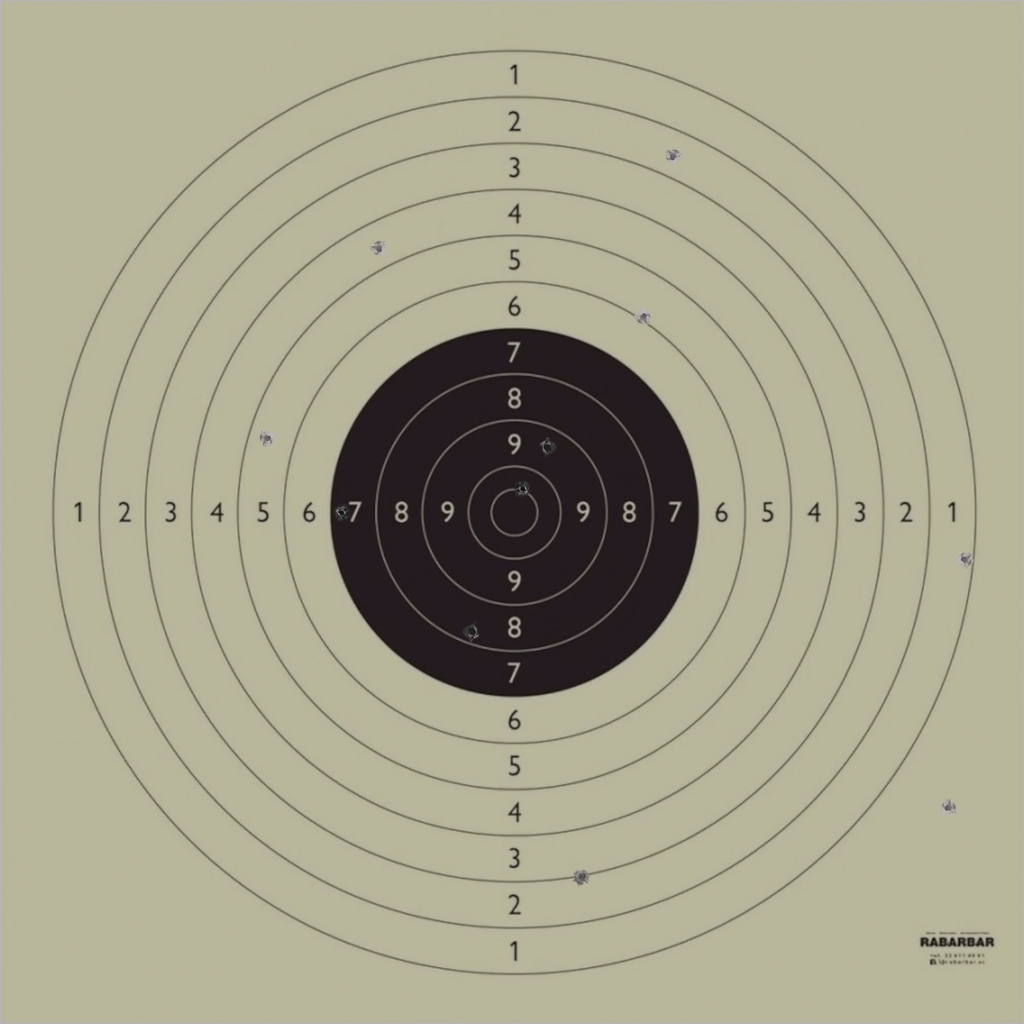0 punktow: (939, 798, 957, 817)
1 punkt: (955, 550, 974, 569)
10 punktow: (514, 480, 532, 498)
2 punkty: (664, 147, 682, 166)
3 punkty: (573, 868, 591, 886)
4 punkty: (370, 240, 388, 258)
5 punktow: (258, 429, 276, 448)
6 punktow: (634, 308, 653, 326)
7 punktow: (332, 503, 350, 522)
8 punktow: (463, 623, 481, 641)
9 punktow: (538, 438, 557, 457)
